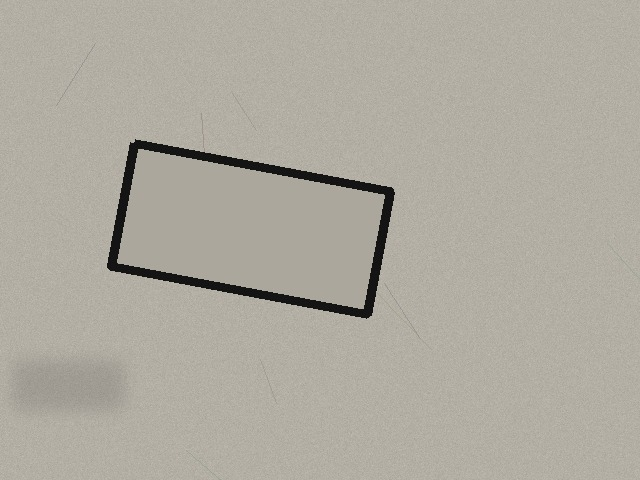parking_area: (111, 143, 390, 314)
